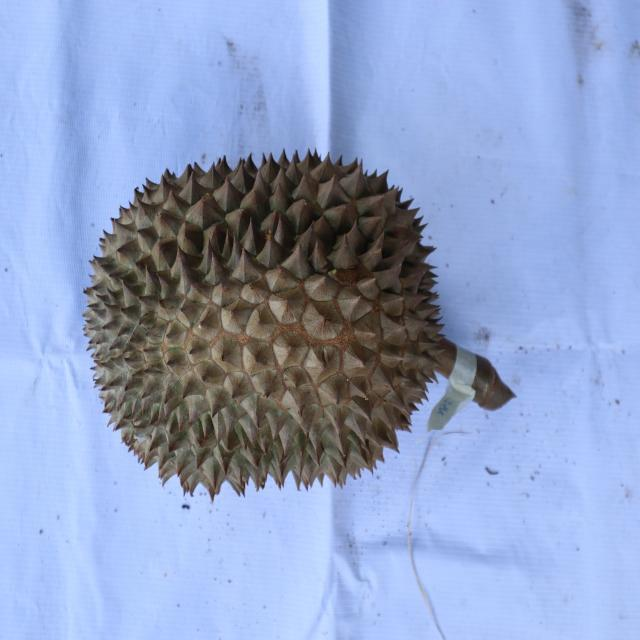mature: (81, 148, 445, 491)
